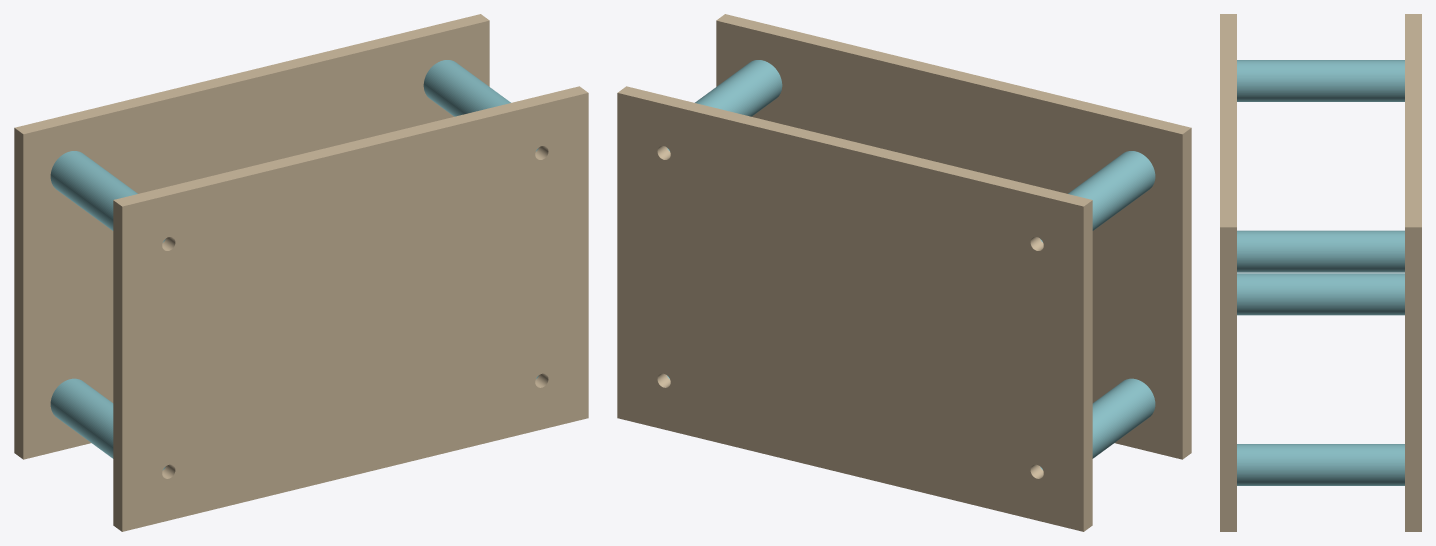
The model's file is assembly.glb.
The picture shows the model from 3 angles, left to right: view 1: azimuth 30°, elevation 25°; view 2: azimuth 150°, elevation 25°; view 3: azimuth 270°, elevation 25°; orthographic projection. The views are drawn at different scales.
Parts seen in each view (by area): view 1: top, base, standoff_2, standoff_1, standoff_4; view 2: base, top, standoff_2, standoff_1, standoff_4; view 3: base, top, standoff_1, standoff_4, standoff_2, standoff_3.
Part boxes in pixels (left/top/right/bottom): top: left=113, top=86, right=588, bottom=531; base: left=14, top=14, right=489, bottom=459; standoff_2: left=50, top=151, right=165, bottom=242; standoff_1: left=50, top=378, right=165, bottom=469; standoff_4: left=423, top=60, right=538, bottom=151; base: left=617, top=86, right=1092, bottom=531; top: left=716, top=14, right=1191, bottom=459; standoff_2: left=1040, top=151, right=1155, bottom=242; standoff_1: left=1040, top=378, right=1155, bottom=469; standoff_4: left=667, top=60, right=782, bottom=151; base: left=1405, top=14, right=1421, bottom=531; top: left=1220, top=14, right=1236, bottom=531; standoff_1: left=1237, top=273, right=1404, bottom=315; standoff_4: left=1237, top=230, right=1404, bottom=272; standoff_2: left=1237, top=60, right=1404, bottom=101; standoff_3: left=1237, top=444, right=1404, bottom=485.
Size of the model in its own units: 0.12 by 0.08 by 0.048.
